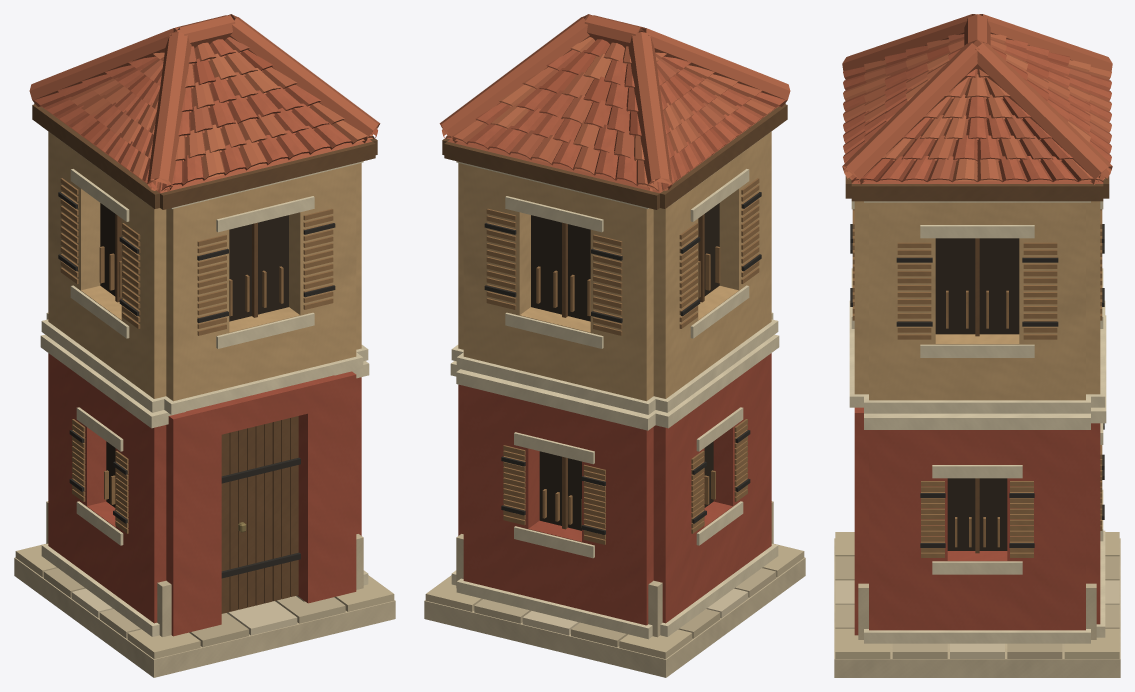
The model's file is verona_street_house.glb.
3 renders of one model, left to right at view 1: azimuth 30°, elevation 25°; view 2: azimuth 150°, elevation 25°; view 3: azimuth 270°, elevation 25°, orthographic. The views are drawn at different scales.
Parts seen in each view (by area): view 1: Warm_ochre.003, Pompeian_red.003, Pompeian_red.001, Warm_ochre.001, Tile_1.003, Tile_0.003, Oak.003, Oak.001, Oak_edge.003, Limestone_trim.001, Limestone_trim.003, Travertine.001 (+14 smaller); view 2: Warm_ochre.003, Pompeian_red.001, Pompeian_red.003, Warm_ochre.001, Limestone_trim.001, Tile_1.003, Oak_edge.003, Tile_0.003, Limestone_trim.003, Oak.003, Travertine.001, Interior_shadow.001 (+14 smaller); view 3: Pompeian_red.003, Warm_ochre.003, Warm_ochre.001, Tile_1.003, Limestone_trim.001, Tile_0.003, Limestone_trim.003, Oak_edge.003, Interior_shadow.003, Interior_shadow.001, Pompeian_red.001, Travertine.001 (+14 smaller).
Boxes of the visible parts, x1,y1,x2,y2 form: Warm_ochre.003: [49, 132, 359, 400]; Pompeian_red.003: [49, 355, 359, 633]; Pompeian_red.001: [48, 353, 361, 636]; Warm_ochre.001: [48, 131, 361, 401]; Tile_1.003: [29, 14, 380, 191]; Tile_0.003: [34, 39, 353, 190]; Oak.003: [32, 103, 377, 611]; Oak.001: [115, 214, 298, 613]; Oak_edge.003: [60, 178, 333, 533]; Limestone_trim.001: [40, 127, 369, 636]; Limestone_trim.003: [42, 169, 367, 630]; Travertine.001: [14, 501, 395, 677]; Warm_ochre.003: [460, 146, 761, 400]; Pompeian_red.001: [458, 353, 771, 625]; Pompeian_red.003: [460, 385, 768, 624]; Warm_ochre.001: [458, 131, 771, 401]; Limestone_trim.001: [450, 127, 779, 639]; Tile_1.003: [440, 14, 790, 191]; Oak_edge.003: [486, 178, 759, 544]; Tile_0.003: [466, 49, 785, 190]; Limestone_trim.003: [452, 169, 778, 636]; Oak.003: [442, 103, 787, 528]; Travertine.001: [424, 501, 805, 677]; Interior_shadow.001: [531, 203, 719, 530]; Pompeian_red.003: [857, 415, 1098, 630]; Warm_ochre.003: [856, 201, 1098, 400]; Warm_ochre.001: [854, 201, 1100, 400]; Tile_1.003: [842, 14, 1112, 184]; Limestone_trim.001: [849, 201, 1106, 643]; Tile_0.003: [843, 39, 1111, 181]; Limestone_trim.003: [851, 201, 1104, 641]; Oak_edge.003: [852, 209, 1102, 557]; Interior_shadow.003: [936, 238, 1018, 550]; Interior_shadow.001: [935, 238, 1019, 550]; Pompeian_red.001: [854, 407, 1100, 635]; Travertine.001: [834, 538, 1120, 677].
Size of the model in its own units: 2.8 by 6.37 by 2.8.
20 materials, 7 textured.
